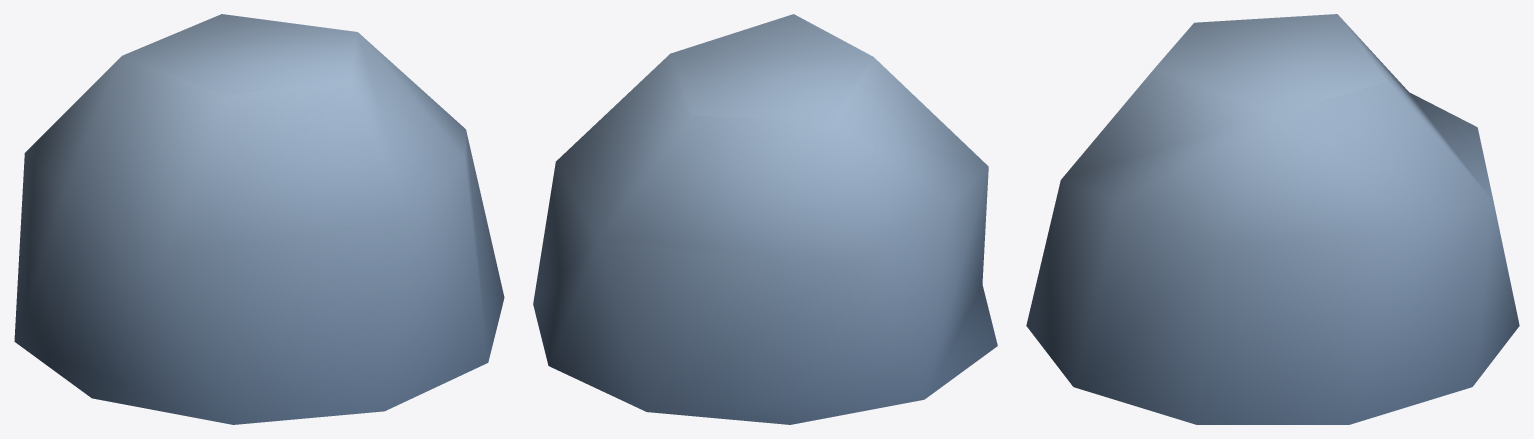
The model's file is Rock.fbx.
3 renders of one model, left to right at view 1: azimuth 30°, elevation 25°; view 2: azimuth 150°, elevation 25°; view 3: azimuth 270°, elevation 25°, orthographic. The views are drawn at different scales.
Parts seen in each view (by area): view 1: Rock; view 2: Rock; view 3: Rock.
Part boxes in pixels (bbox=[...]): Rock: bbox=[14, 14, 504, 424]; Rock: bbox=[533, 14, 997, 424]; Rock: bbox=[1026, 14, 1519, 424].
Size of the model in its own units: 0.6109 by 0.392 by 0.6424.
